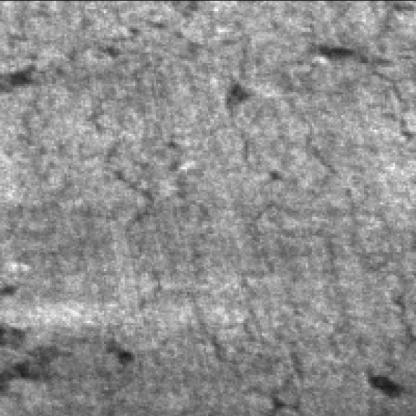crazing: (183, 212, 368, 400), (223, 0, 366, 189), (94, 88, 214, 272)
